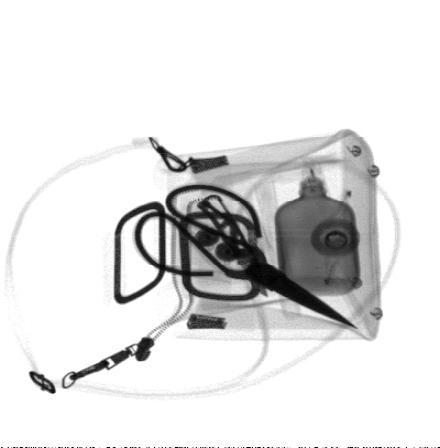Scissors: (131, 183, 358, 328)
